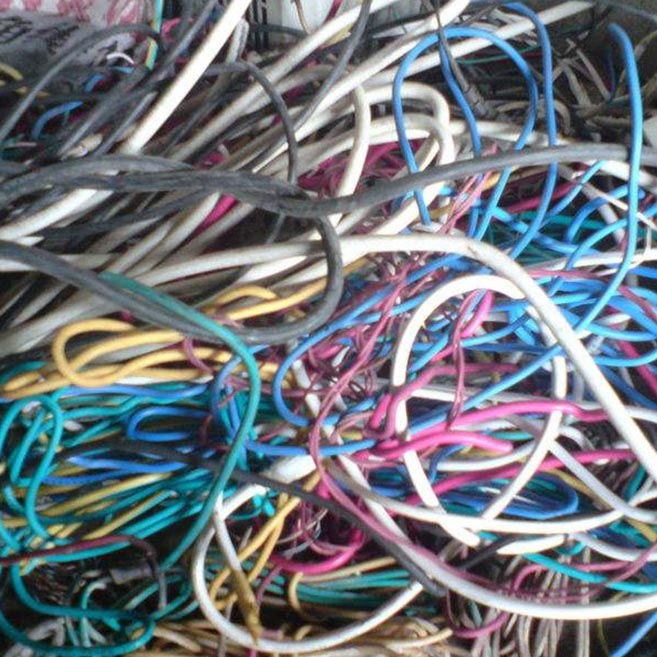more_tube: (82, 355, 595, 638), (33, 56, 398, 361), (408, 40, 653, 350)
